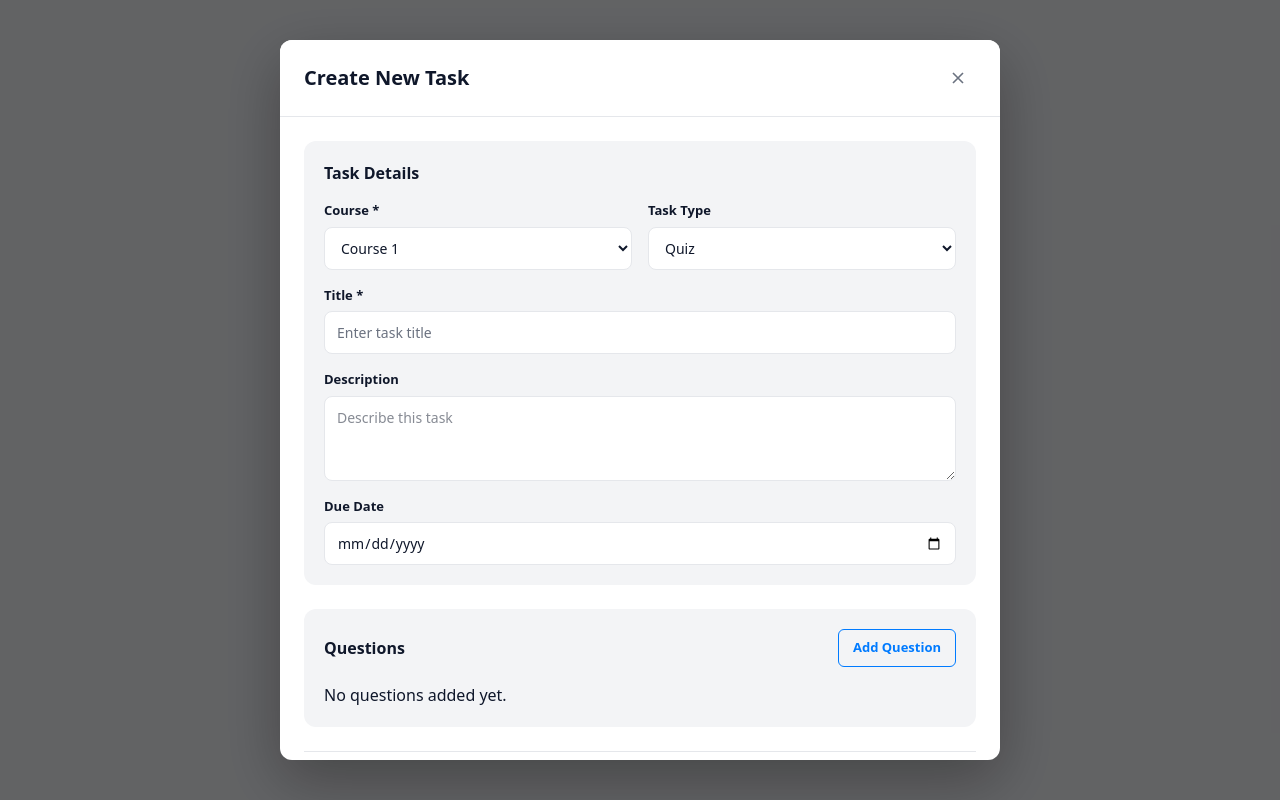
Test case: AddTask.tsx coverage-focused tests › add question adds UI section
Click the button "Add Question" at (897, 648), box [838,629,956,666]
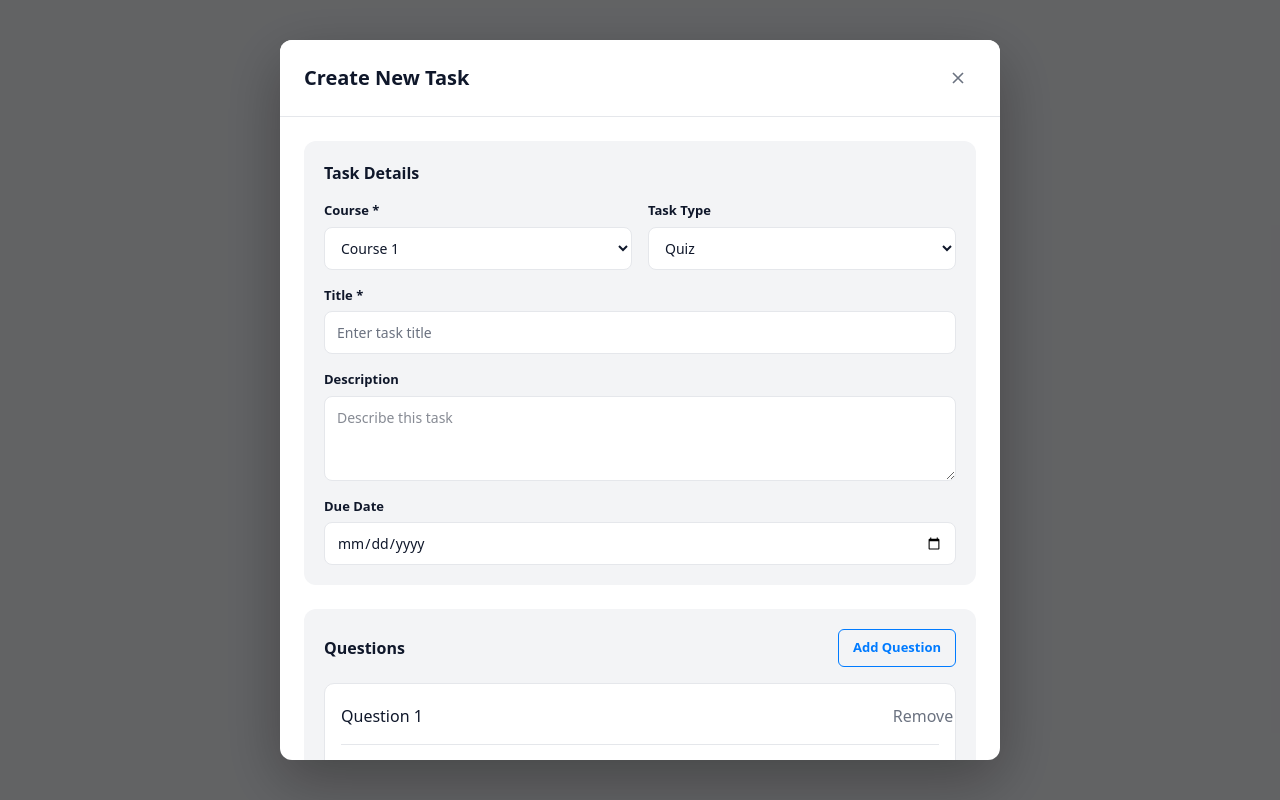
Result: the text "No questions added yet" is gone
